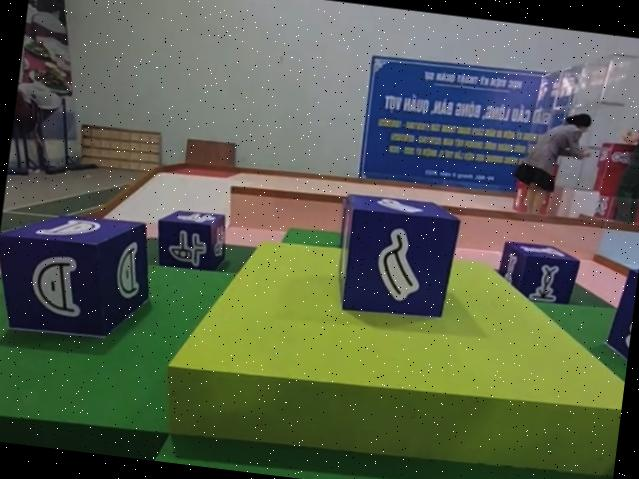R2 Real Blue: (0, 203, 155, 345), (326, 190, 459, 324), (491, 238, 579, 306), (151, 208, 229, 275), (601, 265, 638, 393)
